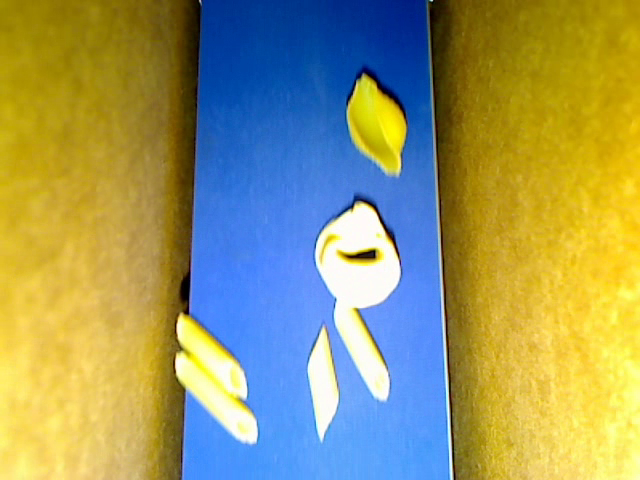penne: (173, 349, 260, 445), (176, 312, 249, 401), (334, 296, 390, 401), (307, 319, 338, 441)
shell: (346, 73, 408, 175)
tortellini: (314, 200, 403, 308)
